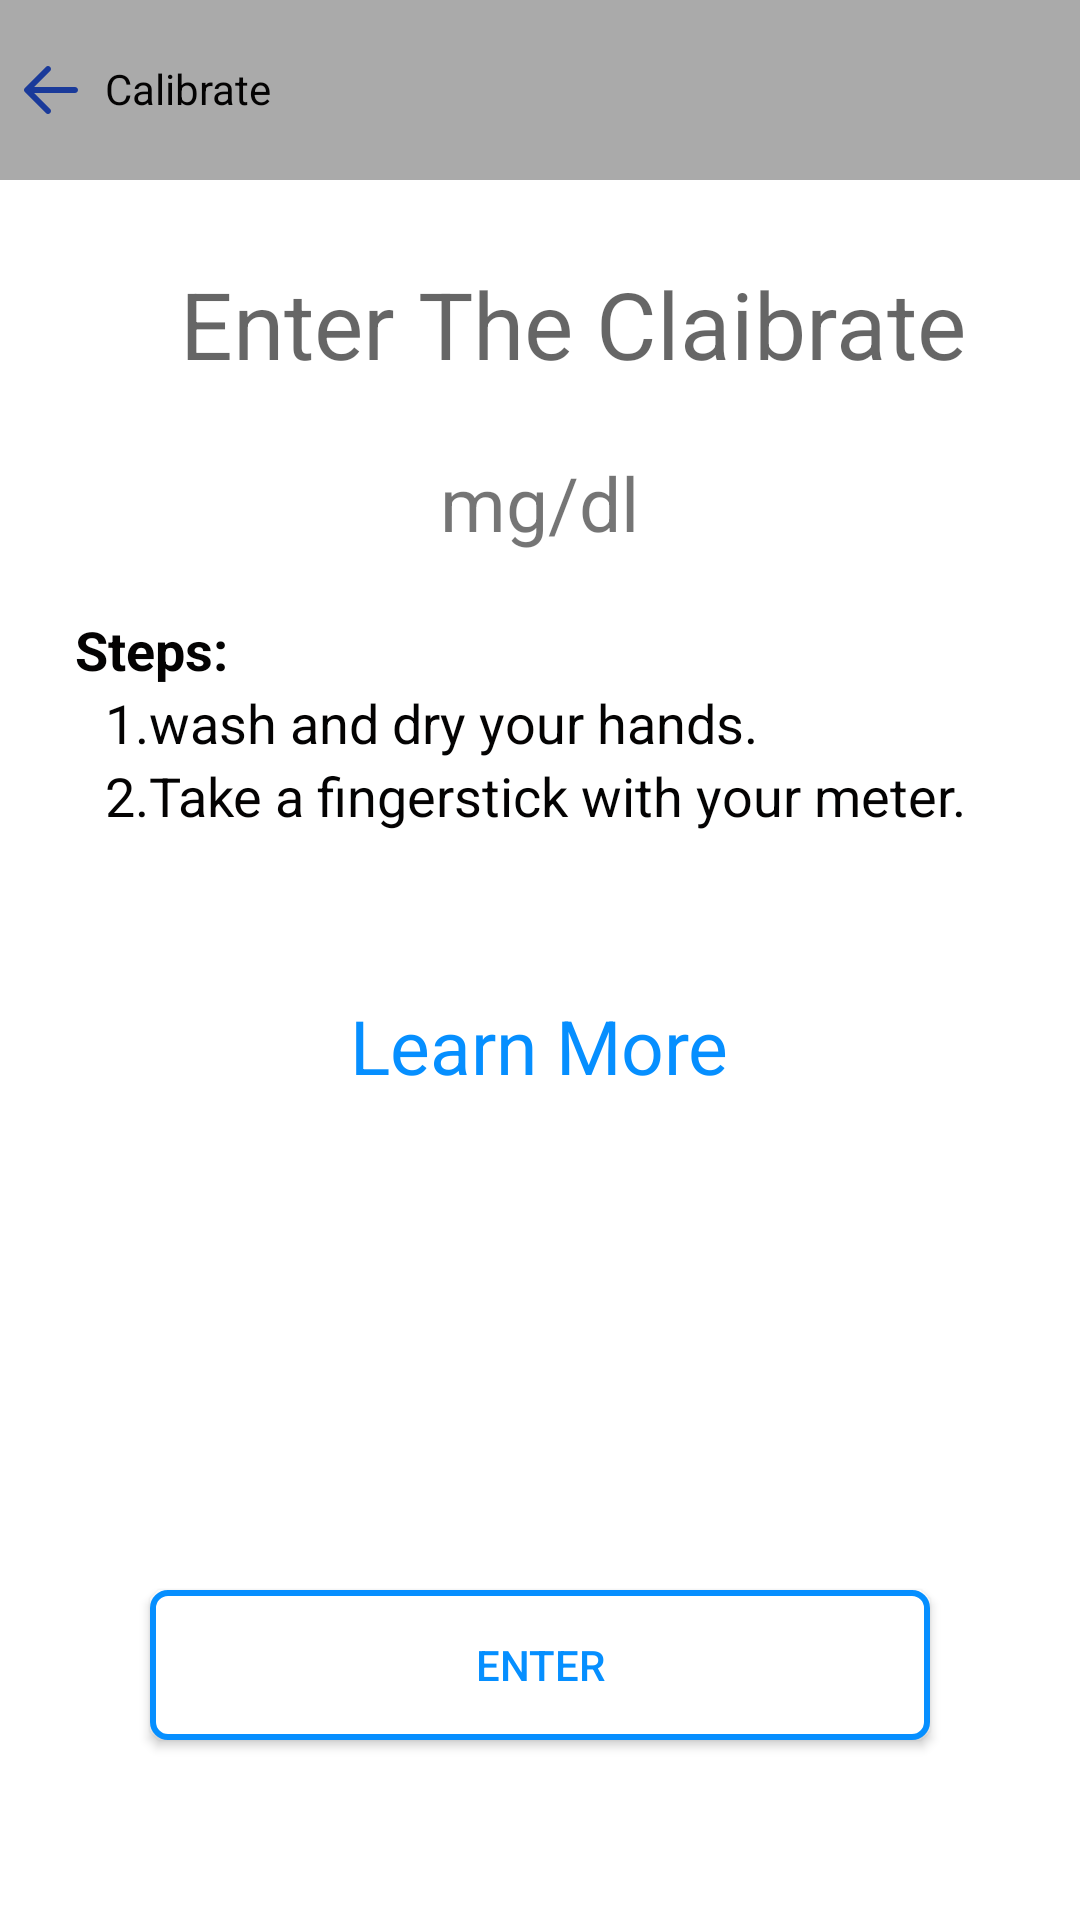

Where to tap for icons on this 1080w x 1920h app screen, as (x=x, y=y):
left: (x=51, y=90)
